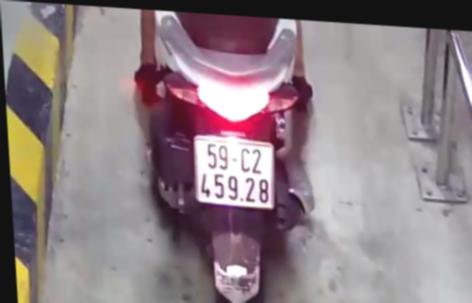License_Plate: (185, 130, 291, 216)
